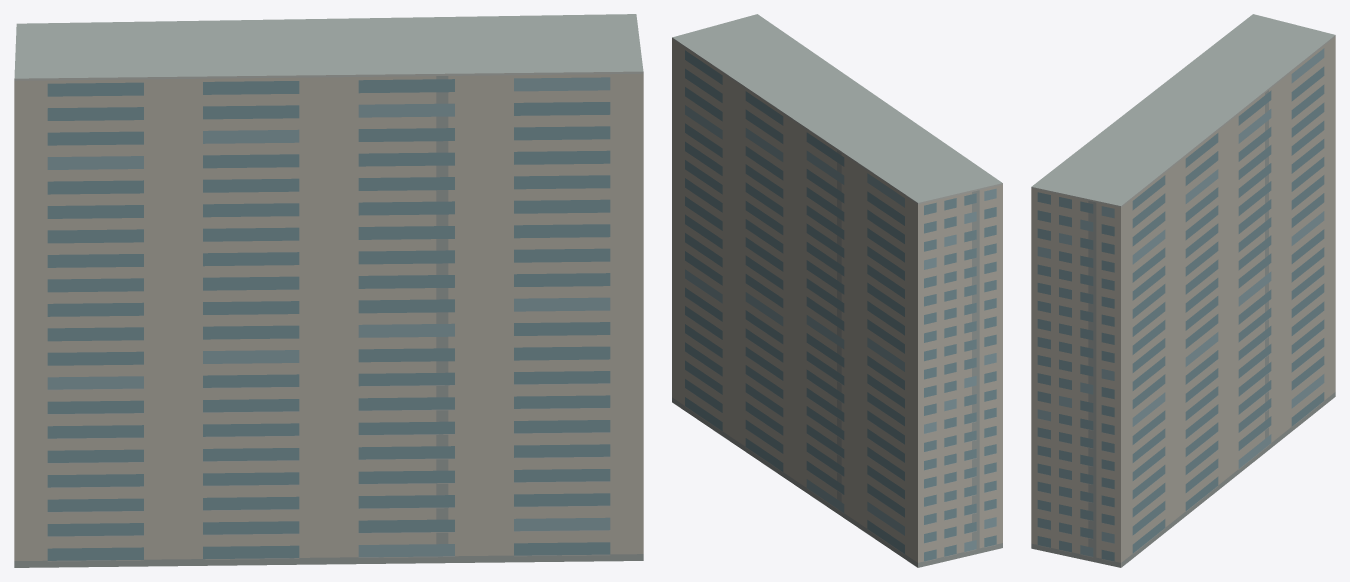
The model's file is residential-4580becb-5ce5-48d9-9550-93d4b17c6ead.glb.
3 views of the same model, side by side, from view 1: azimuth 30°, elevation 25°; view 2: azimuth 150°, elevation 25°; view 3: azimuth 270°, elevation 25° (orthographic). The views are drawn at different scales.
Visible parts, largest first — view 1: residential-4580becb-5ce5-48d9-9550-93d4b17c6ead.tmp; view 2: residential-4580becb-5ce5-48d9-9550-93d4b17c6ead.tmp; view 3: residential-4580becb-5ce5-48d9-9550-93d4b17c6ead.tmp.
Part boxes in pixels (x1,y1,x2,y2): residential-4580becb-5ce5-48d9-9550-93d4b17c6ead.tmp: [14, 14, 643, 567]; residential-4580becb-5ce5-48d9-9550-93d4b17c6ead.tmp: [672, 14, 1002, 567]; residential-4580becb-5ce5-48d9-9550-93d4b17c6ead.tmp: [1031, 14, 1335, 567].
Bounding box in the file's own units: 61.53 × 54 × 41.19.
